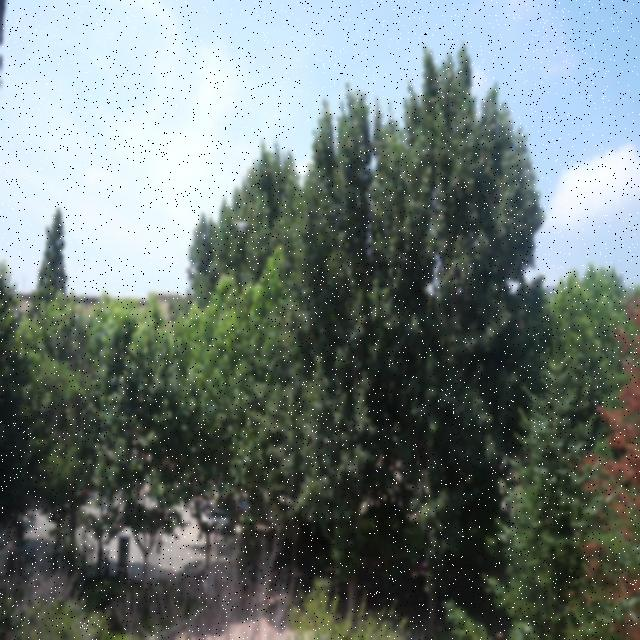UAV: (232, 220, 249, 233)
